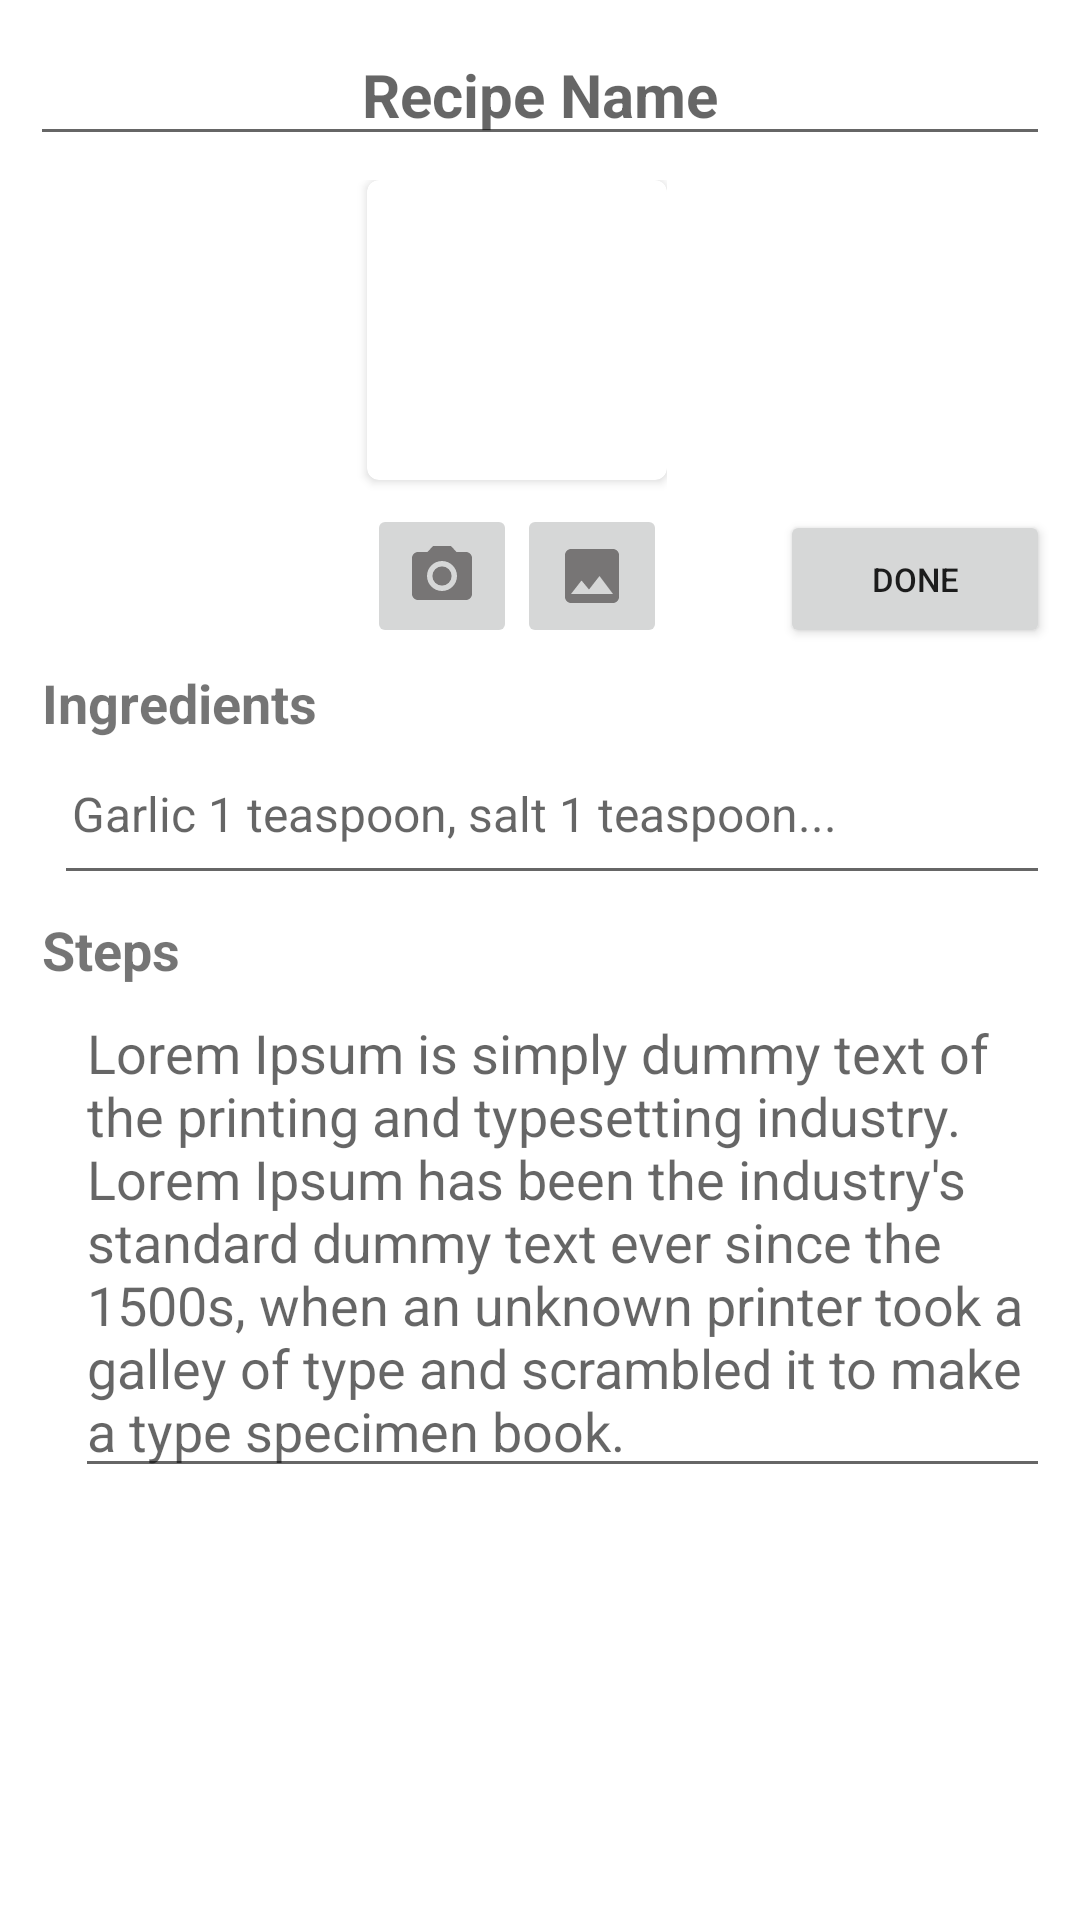

Point at icon controls on the screen. Image size 1080×1920, points as point (x, y).
Choosing a picture: point (592, 576)
Taking a picture: point (442, 576)
